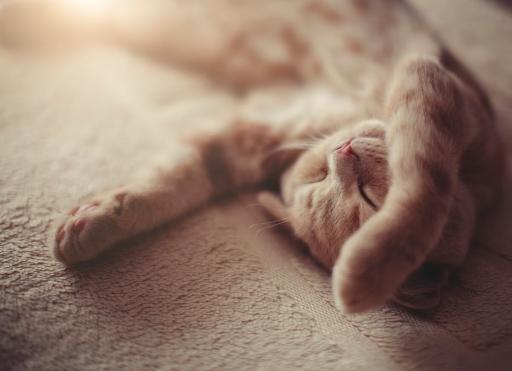cat_sleeping: (55, 1, 512, 316)
